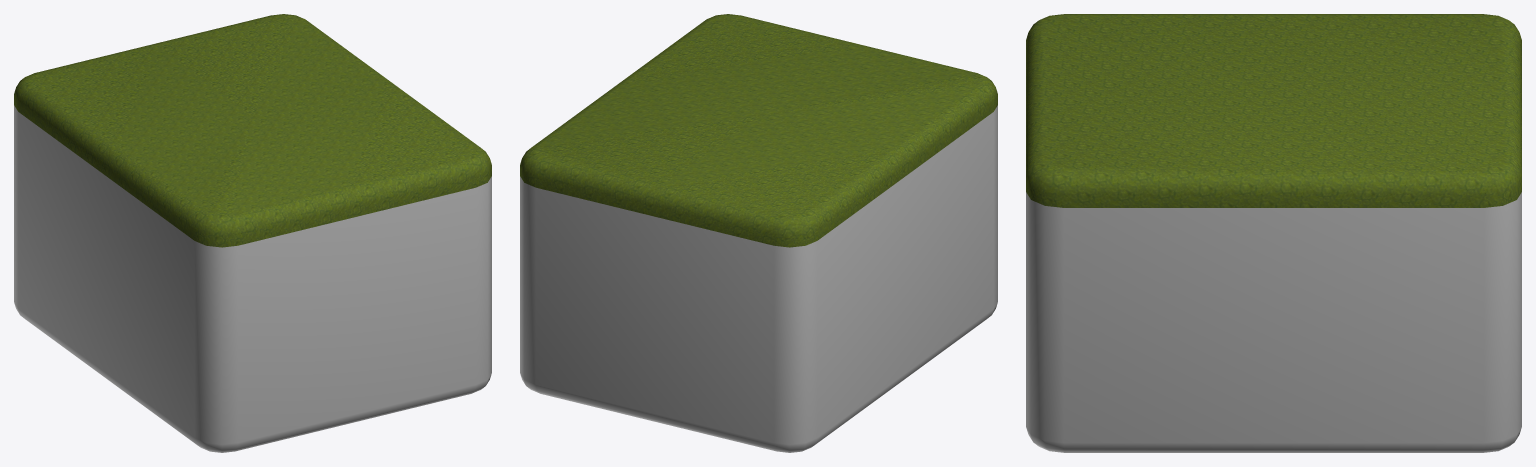
File: TerrainBlock.fbx
The picture shows the model from 3 angles, left to right: view 1: azimuth 30°, elevation 25°; view 2: azimuth 150°, elevation 25°; view 3: azimuth 270°, elevation 25°; orthographic projection. The views are drawn at different scales.
Visible parts, largest first — view 1: Cube; view 2: Cube; view 3: Cube.
Boxes of the visible parts, x1=… form: Cube: x1=14, y1=14, x2=491, y2=452; Cube: x1=520, y1=14, x2=997, y2=452; Cube: x1=1026, y1=14, x2=1521, y2=452.
Bounding box in the file's own units: 1299 × 995 × 1596.
